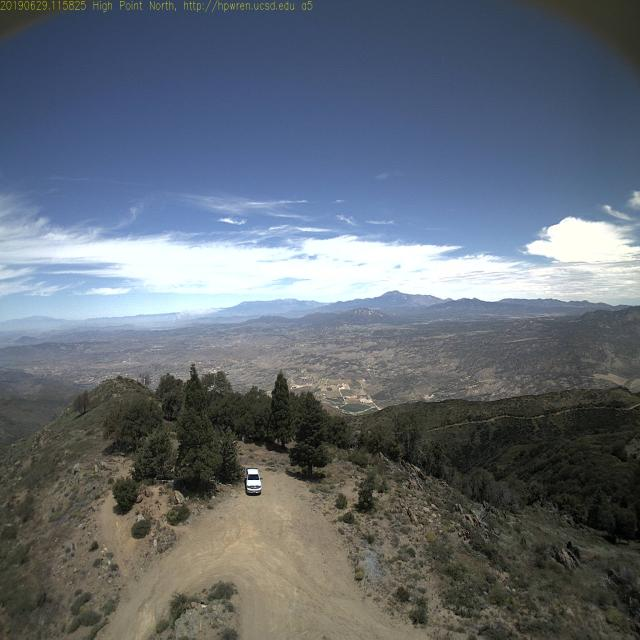smoke: (167, 300, 224, 330)
